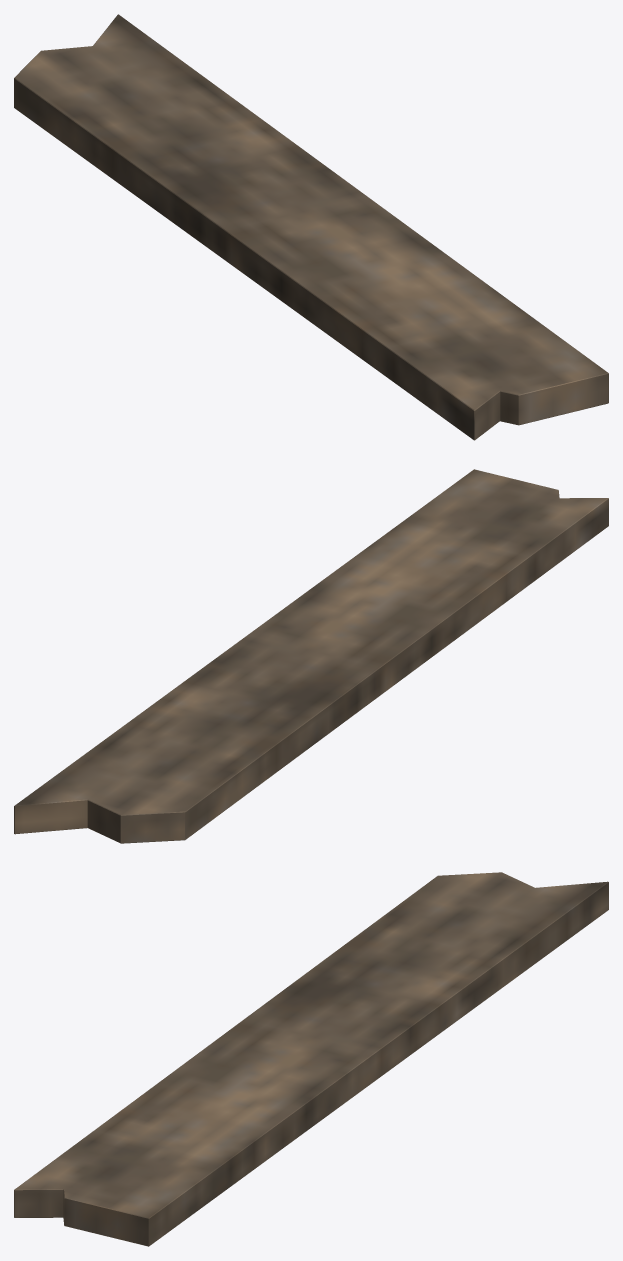
Rendered from Planche1.glb.
3 renders of one model, top to bottom at view 1: azimuth 30°, elevation 25°; view 2: azimuth 150°, elevation 25°; view 3: azimuth 330°, elevation 25°, orthographic. The views are drawn at different scales.
Visible parts, largest first — view 1: plank_01_Planks_SHD_0; view 2: plank_01_Planks_SHD_0; view 3: plank_01_Planks_SHD_0.
Boxes of the visible parts, box(x1,y1,x2,y2) form: plank_01_Planks_SHD_0: box(14, 14, 608, 440); plank_01_Planks_SHD_0: box(14, 469, 608, 843); plank_01_Planks_SHD_0: box(14, 872, 608, 1246).
Size of the model in its own units: 0.697 by 0.1417 by 4.15.
1 material, 1 textured.
